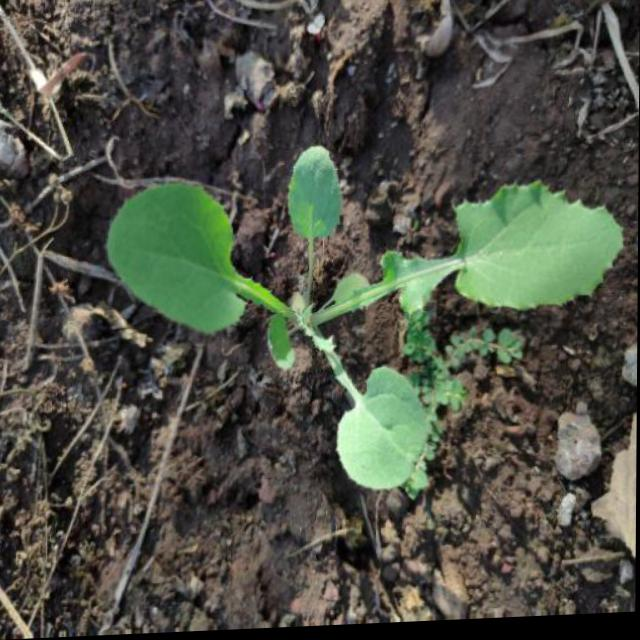weed: (87, 127, 631, 533)
